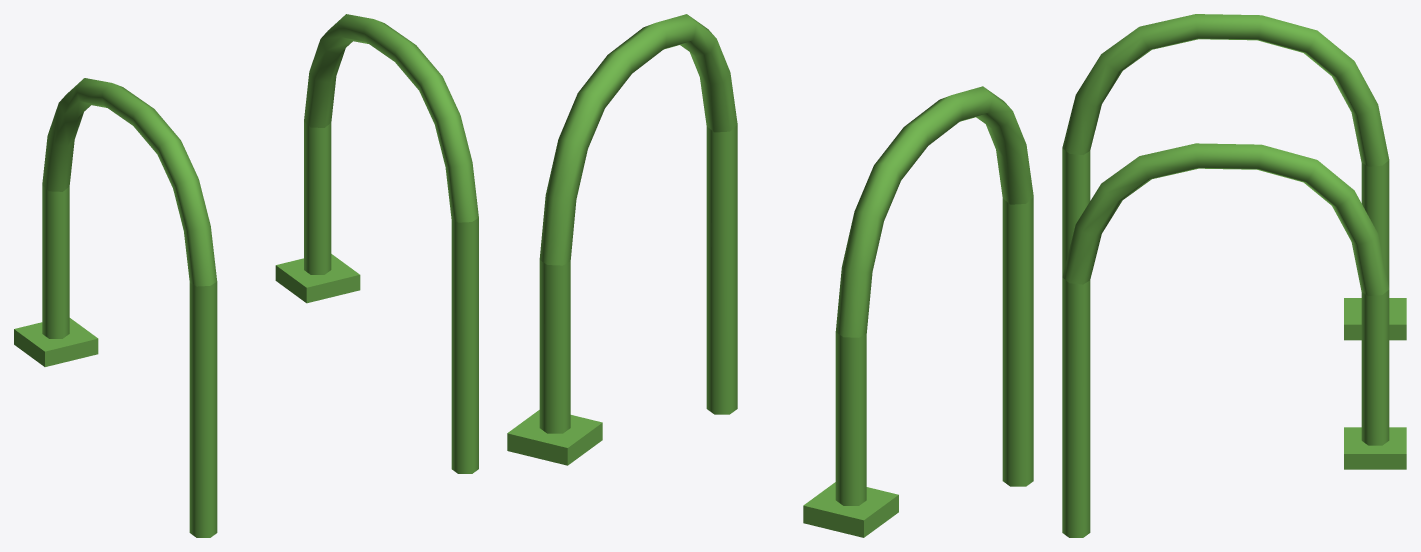
The model's file is met ladder cap.FBX.
The picture shows the model from 3 angles, left to right: view 1: azimuth 30°, elevation 25°; view 2: azimuth 150°, elevation 25°; view 3: azimuth 270°, elevation 25°; orthographic projection. The views are drawn at different scales.
Visible parts, largest first — view 1: Line010; view 2: Line010; view 3: Line010.
Boxes of the visible parts, x1,y1,x2,y2 form: Line010: (14, 14, 478, 537); Line010: (507, 14, 1033, 537); Line010: (1062, 14, 1406, 537).
Bounding box in the file's own units: 0.6626 × 0.7718 × 0.6183.
